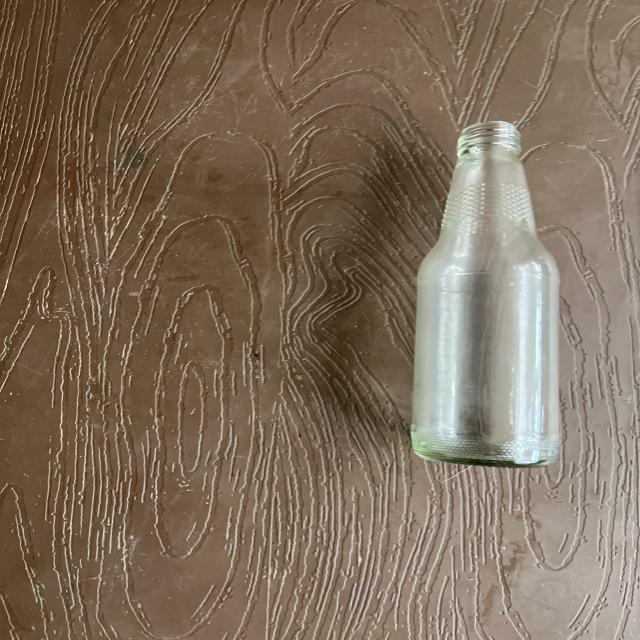Glass_Bottle: (412, 122, 559, 467)
